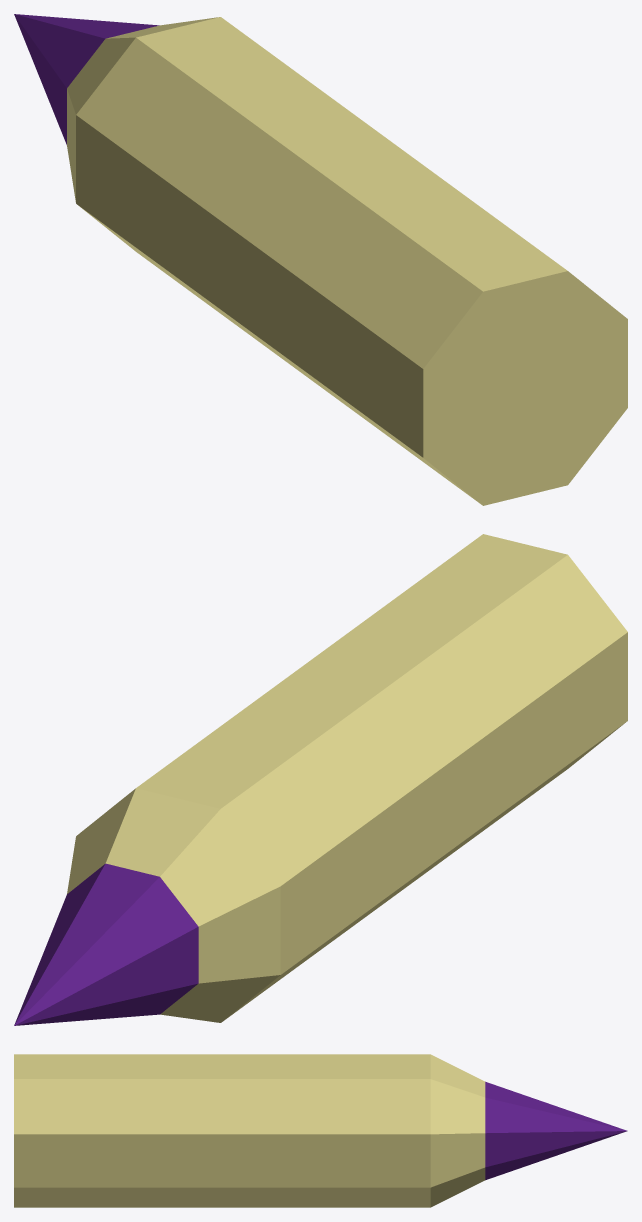
File: ce_ammo_rifle_inc_a.obj
The picture shows the model from 3 angles, top to bottom: view 1: azimuth 30°, elevation 25°; view 2: azimuth 150°, elevation 25°; view 3: azimuth 270°, elevation 25°; orthographic projection. The views are drawn at different scales.
Parts seen in each view (by area): view 1: ce_ammo_rifle_inc_a_0, ce_ammo_rifle_inc_a_2, ce_ammo_rifle_inc_a_1; view 2: ce_ammo_rifle_inc_a_0, ce_ammo_rifle_inc_a_1, ce_ammo_rifle_inc_a_2; view 3: ce_ammo_rifle_inc_a_0, ce_ammo_rifle_inc_a_2, ce_ammo_rifle_inc_a_1.
Part boxes in pixels (x1,y1,x2,y2): ce_ammo_rifle_inc_a_0: (76, 17, 627, 505); ce_ammo_rifle_inc_a_2: (14, 14, 159, 144); ce_ammo_rifle_inc_a_1: (67, 17, 219, 201); ce_ammo_rifle_inc_a_0: (136, 534, 627, 1020); ce_ammo_rifle_inc_a_1: (67, 788, 280, 1022); ce_ammo_rifle_inc_a_2: (14, 863, 198, 1025); ce_ammo_rifle_inc_a_0: (14, 1054, 430, 1207); ce_ammo_rifle_inc_a_2: (485, 1081, 627, 1180); ce_ammo_rifle_inc_a_1: (430, 1054, 485, 1207).
Bounding box in the file's own units: 0.1294 × 0.1294 × 0.56.
